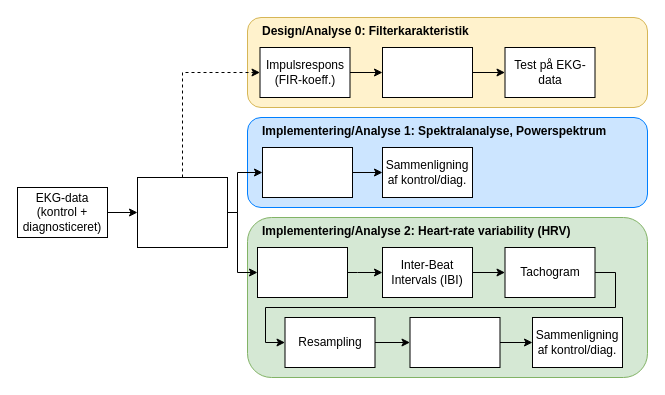
Some shapes in this 665 by 395 pixel diagram are drawn without their labels. The shapes that lost their labels are listed below. From the top down, each one's centre as x and y in pixels, then its label:
At [427,72]: "Frekvens-respons (FFT)".
At [307,172]: "Powerspektrum (FFT)".
At [182,212]: "Preprocessering, støjfilter, detrending, outliers (båndpas, m.v)".
At [302,272]: "R-takker (findpeaks)".
At [454,342]: "HRV (FFT, Power-spektrum)".
